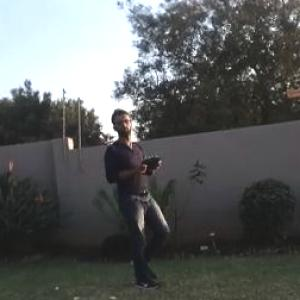follow: (97, 105, 174, 296)
